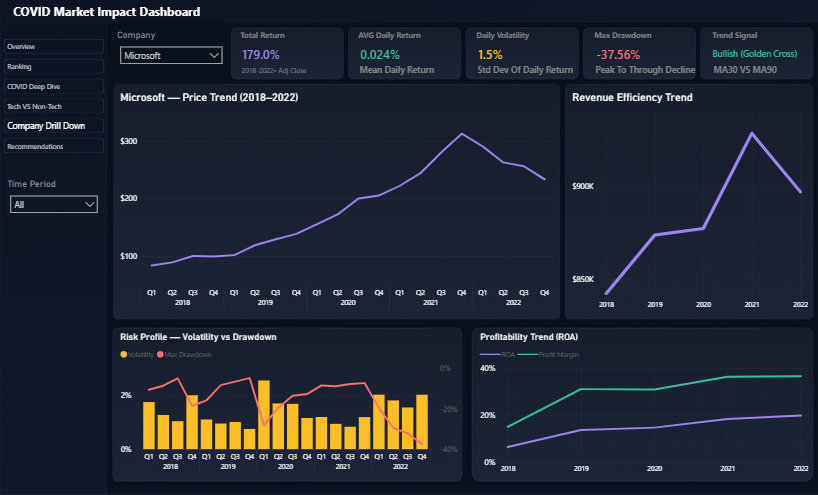

The page's visual inventory and layout, read from the dashboard file:
{"tool":"powerbi","page":{"name":"Company Drill Down","canvas":[1280,780],"ordinal":4},"visuals":[{"type":"textbox","box":[18,0,304.3,42.2],"z":0},{"type":"pageNavigator","box":[6.3,65.5,156.2,178.7],"z":1000},{"type":"slicer","title":"Company","fields":{"Values":["dimCompany.Company"]},"box":[177.8,52.1,178.7,76.3],"z":2000},{"type":"cardVisual","fields":{"Data":["Key_Measures.Total Return"]},"box":[351,42.2,221.7,95.2],"z":3000},{"type":"textbox","box":[369.9,42.2,184,32.3],"z":4000},{"type":"textbox","box":[369.9,96.1,190.3,32.3],"z":5000},{"type":"cardVisual","fields":{"Data":["Key_Measures.Avg Daily Return"]},"box":[535.1,42.2,221.7,95.2],"z":6000},{"type":"textbox","box":[553.9,42.2,184,32.3],"z":7000},{"type":"textbox","box":[553.9,96.1,190.3,32.3],"z":8000},{"type":"cardVisual","fields":{"Data":["Key_Measures.Volatility"]},"box":[719.1,42.2,221.7,95.2],"z":9000},{"type":"textbox","box":[738,42.2,184,32.3],"z":10000},{"type":"textbox","box":[738,96.1,190.3,32.3],"z":11000},{"type":"cardVisual","fields":{"Data":["Key_Measures.Max Drawdown"]},"box":[903.1,42.2,221.7,95.2],"z":12000},{"type":"textbox","box":[922,42.2,184,32.3],"z":13000},{"type":"textbox","box":[915.2,96.3,190.6,32.1],"z":14000},{"type":"cardVisual","fields":{"Data":["Key_Measures.Trend Signal"]},"box":[1084.5,42.2,195.7,95.2],"z":15000},{"type":"textbox","box":[1106,42.2,174.2,32.3],"z":16000},{"type":"textbox","box":[1106,96.1,174.2,32.3],"z":17000},{"type":"lineChart","title":"Revenue Efficiency Trend","fields":{"Category":["dcalendar.Year"],"Y":["Key_Measures.Revenue per Employee"]},"box":[887.9,146.3,378,351.9],"z":18000},{"type":"lineChart","fields":{"Category":["dcalendar.Year","dcalendar.Quarter"],"Y":["Avg(Daily Stock Return.Adj Close)"]},"box":[182.2,146.3,685,351.9],"z":19000},{"type":"lineClusteredColumnComboChart","title":"Risk Profile — Volatility vs Drawdown","fields":{"Category":["dcalendar.Year","dcalendar.Quarter"],"Y":["Key_Measures.Volatility"],"Y2":["Key_Measures.Max Drawdown"]},"box":[181.9,523.2,536.9,231.5],"z":20000},{"type":"lineChart","title":"Profitability Trend (ROA)","fields":{"Category":["dcalendar.Year"],"Y":["Key_Measures.ROA","Key_Measures.Profit Margin"]},"box":[744,523.2,522.3,231.5],"z":21000},{"type":"slicer","title":"Time Period","fields":{"Values":["dcalendar.Year","dcalendar.Month"]},"box":[6.3,284.6,156.2,56.6],"z":22000}]}

Visuals, with their boxes in screenshot pixels (x1, y1, x2, y2), scaled from the page's 1280x780 canvas onto the 818x495 screenshot:
textbox: bbox(12, 0, 206, 27)
pageNavigator: bbox(4, 42, 104, 155)
"Company" slicer: bbox(114, 33, 228, 81)
cardVisual - Key_Measures.Total Return: bbox(224, 27, 366, 87)
textbox: bbox(236, 27, 354, 47)
textbox: bbox(236, 61, 358, 81)
cardVisual - Key_Measures.Avg Daily Return: bbox(342, 27, 484, 87)
textbox: bbox(354, 27, 472, 47)
textbox: bbox(354, 61, 476, 81)
cardVisual - Key_Measures.Volatility: bbox(460, 27, 601, 87)
textbox: bbox(472, 27, 589, 47)
textbox: bbox(472, 61, 593, 81)
cardVisual - Key_Measures.Max Drawdown: bbox(577, 27, 719, 87)
textbox: bbox(589, 27, 707, 47)
textbox: bbox(585, 61, 707, 81)
cardVisual - Key_Measures.Trend Signal: bbox(693, 27, 817, 87)
textbox: bbox(707, 27, 817, 47)
textbox: bbox(707, 61, 817, 81)
"Revenue Efficiency Trend" lineChart: bbox(567, 93, 809, 316)
lineChart - dcalendar.Year x dcalendar.Quarter: bbox(116, 93, 554, 316)
"Risk Profile — Volatility vs Drawdown" lineClusteredColumnComboChart: bbox(116, 332, 459, 479)
"Profitability Trend (ROA)" lineChart: bbox(475, 332, 809, 479)
"Time Period" slicer: bbox(4, 181, 104, 217)
